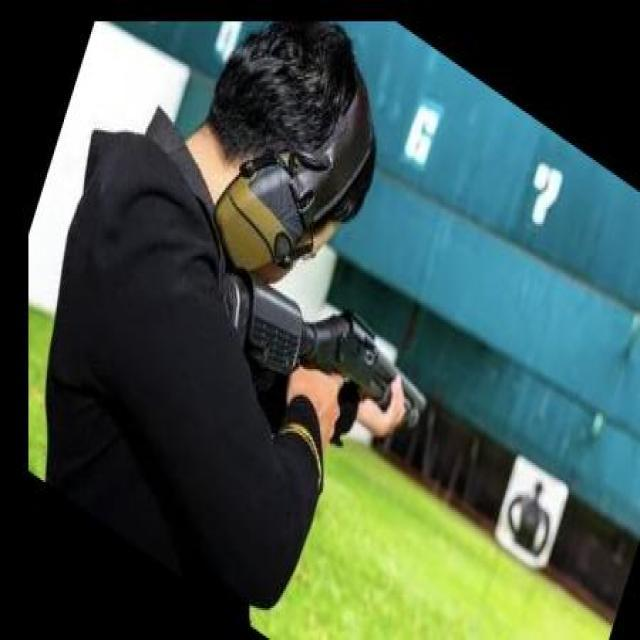weapon: (218, 270, 426, 430)
